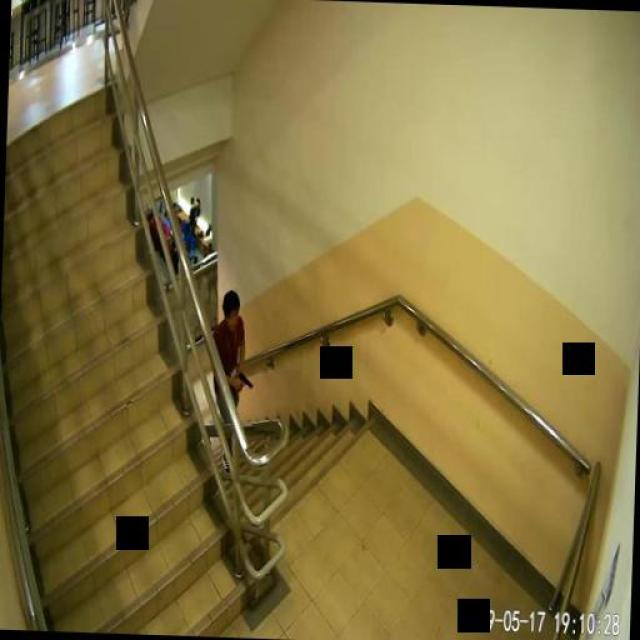gun: (235, 370, 251, 389)
